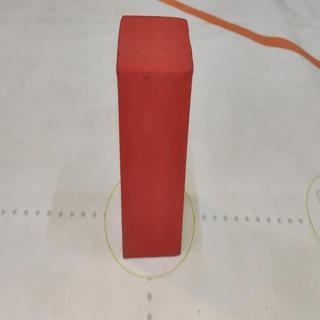redbox: (115, 14, 194, 257)
